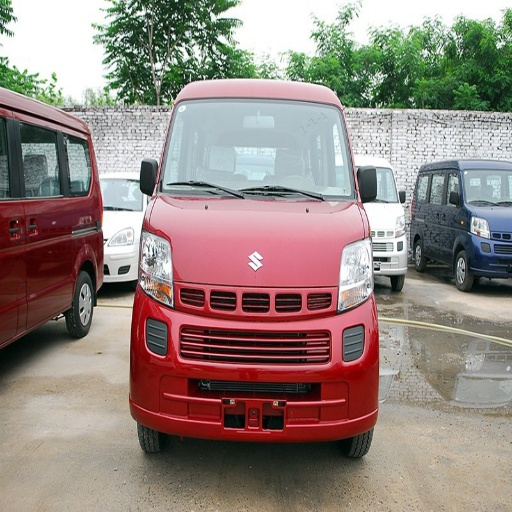front_bumper: (135, 281, 375, 442)
front_glass: (160, 99, 353, 199)
front_left_door: (3, 145, 26, 315)
front_right_light: (140, 236, 173, 306)
hood: (145, 193, 367, 285)
